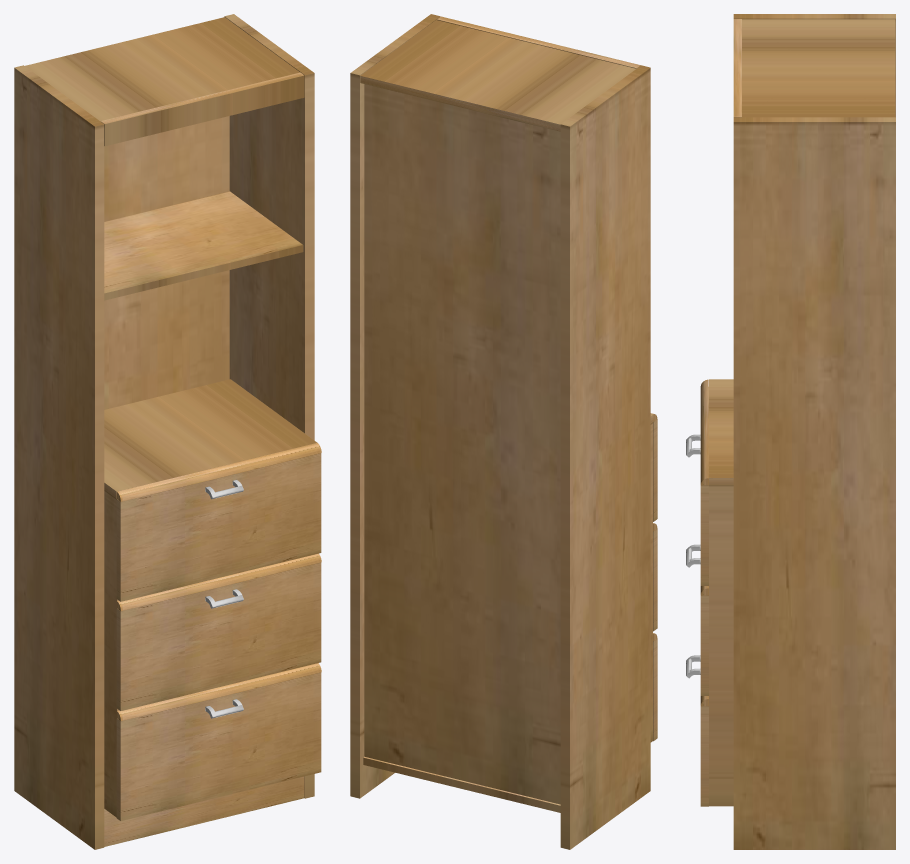
Rendered from sweethome3d-contributions-bookcase-331.glb.
3 renders of one model, left to right at view 1: azimuth 30°, elevation 25°; view 2: azimuth 150°, elevation 25°; view 3: azimuth 270°, elevation 25°, orthographic.
Visible parts, largest first — view 1: Cube_1_1, Cube_1_1_2, Cube_9_12, Cube_8_1_18, Cube_8_11, Cube_8_2_21, Cube_2_1_4, Cube_5_8, Cube_2_3, Cube_4_7, Cube_6_9, Cube_3_5 (+3 smaller); view 2: Cube_9_12, Cube_1_1, Cube_2_1_4, Cube_1_1_2, Cube_6_1_10, Cube_4_7, Cube_3_5; view 3: Cube_1_1_2, Cube_2_1_4, Cube_3_1_6, Cube_5_8, Cube_1_1, Cube_8_2_21, Boolean_2_2_19, Cube_8_11, Cube_8_1_18, Cube_4_7.
Boxes of the visible parts, x1,y1,x2,y2 form: Cube_1_1: (14,65,104,849); Cube_1_1_2: (224,14,314,798); Cube_9_12: (104,116,229,409); Cube_8_1_18: (116,562,321,710); Cube_8_11: (116,672,321,820); Cube_8_2_21: (116,453,321,601); Cube_2_1_4: (25,17,299,121); Cube_5_8: (104,379,317,498); Cube_2_3: (104,191,303,300); Cube_4_7: (100,72,304,146); Cube_6_9: (104,776,304,846); Cube_3_5: (104,490,118,817); Cube_9_12: (364,84,560,804); Cube_1_1: (560,65,650,849); Cube_2_1_4: (360,20,635,131); Cube_1_1_2: (350,14,440,798); Cube_6_1_10: (363,756,560,812); Cube_4_7: (436,16,640,68); Cube_3_5: (650,422,652,742); Cube_1_1_2: (733,117,895,849); Cube_2_1_4: (742,19,895,117); Cube_3_1_6: (709,485,733,806); Cube_5_8: (709,379,733,485); Cube_1_1: (733,14,895,117); Cube_8_2_21: (700,387,708,585); Boolean_2_2_19: (700,379,708,485); Cube_8_11: (700,696,708,806); Cube_8_1_18: (700,586,708,695); Cube_4_7: (733,19,741,117).
Bounding box in the file's own units: 51.88 × 163 × 42.65.
3 materials, 2 textured.
